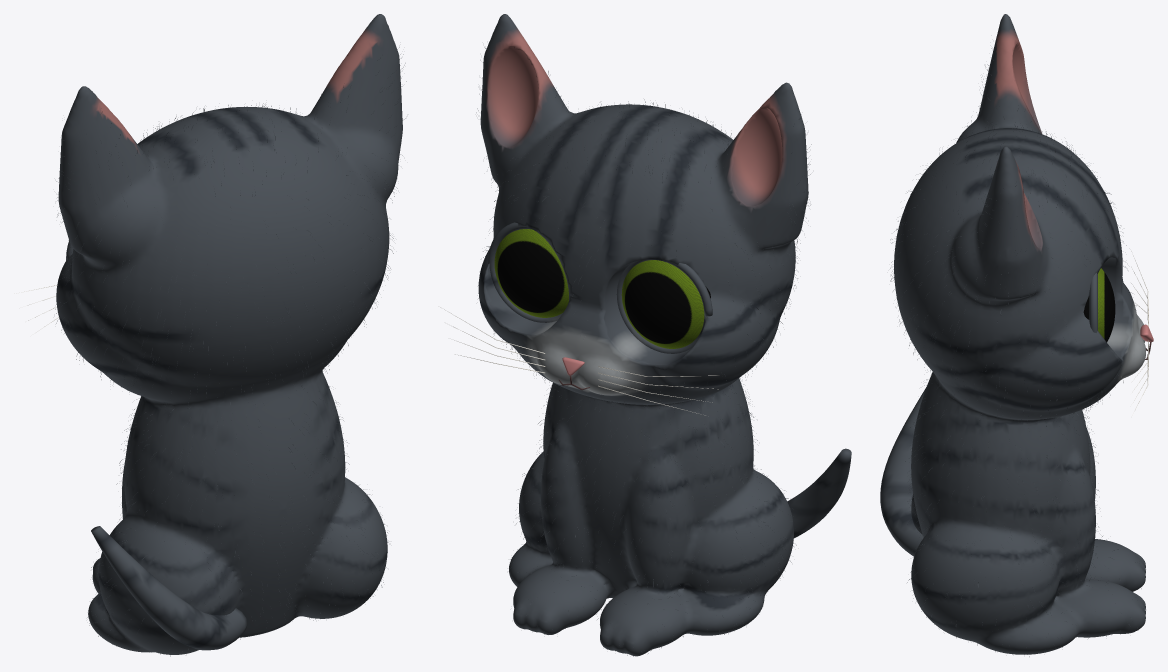
The model's file is mochi_driver.glb.
3 views of the same model, side by side, from view 1: azimuth 30°, elevation 25°; view 2: azimuth 150°, elevation 25°; view 3: azimuth 270°, elevation 25° (orthographic). The views are drawn at different scales.
Visible parts, largest first — view 1: Continuous feline anatomy, Curled tail, Groomed short fur; view 2: Continuous feline anatomy, Curved inset eye.001, Curved inset eye, Curled tail, Soft anatomical eyelid.001, Groomed short fur, Soft anatomical eyelid; view 3: Continuous feline anatomy, Curled tail, Groomed short fur, Curved inset eye, Soft anatomical eyelid.
Part boxes in pixels (x1,y1,x2,y2): Continuous feline anatomy: [56, 14, 402, 654]; Curled tail: [91, 526, 247, 650]; Groomed short fur: [55, 47, 406, 656]; Continuous feline anatomy: [478, 14, 808, 656]; Curved inset eye.001: [621, 260, 710, 348]; Curved inset eye: [494, 229, 568, 317]; Curled tail: [787, 448, 851, 538]; Soft anatomical eyelid.001: [616, 259, 712, 353]; Groomed short fur: [476, 47, 811, 656]; Soft anatomical eyelid: [487, 222, 562, 322]; Continuous feline anatomy: [894, 14, 1145, 654]; Curled tail: [880, 387, 926, 556]; Groomed short fur: [890, 43, 1141, 656]; Curved inset eye: [1083, 268, 1115, 342]; Soft anatomical eyelid: [1089, 273, 1097, 332].
Bounding box in the file's own units: 0.9755 × 1.54 × 0.7154.
6 materials, 2 textured.
